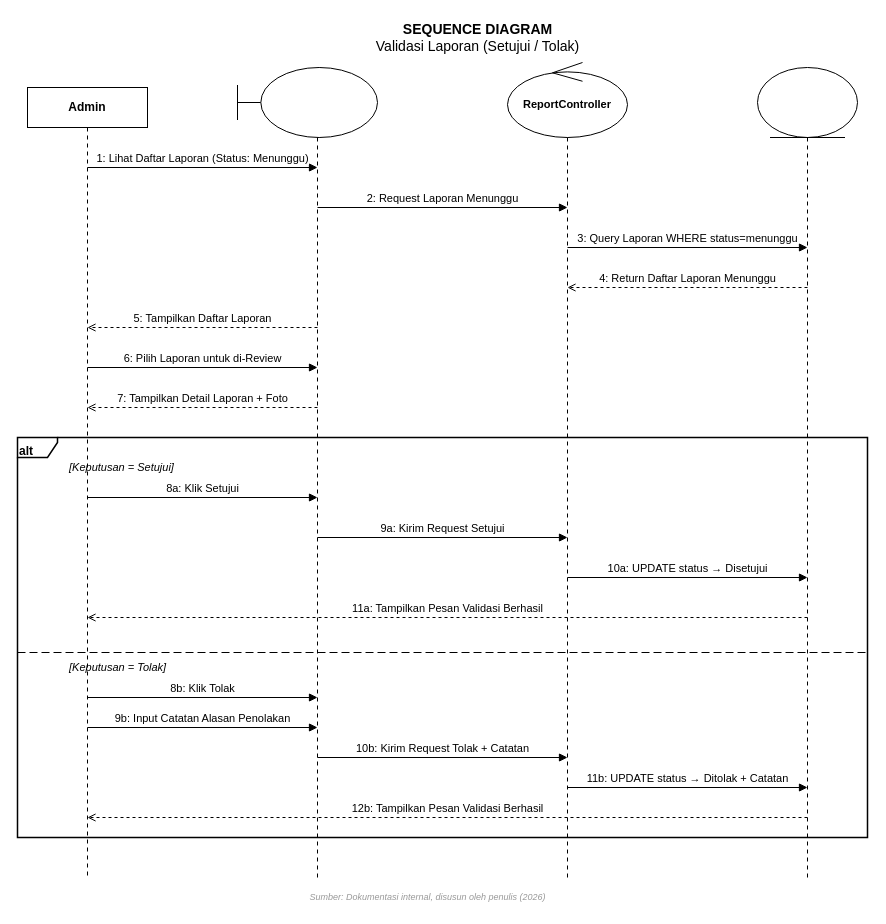
The diagram is 886 pixels wide and 924 high, and some of its shapes have lost their labels. The centre of each missing label's shape, as x and y in pixels:
"Database" belongs at (807,102).
"Halaman Validasi Laporan" belongs at (307,102).
